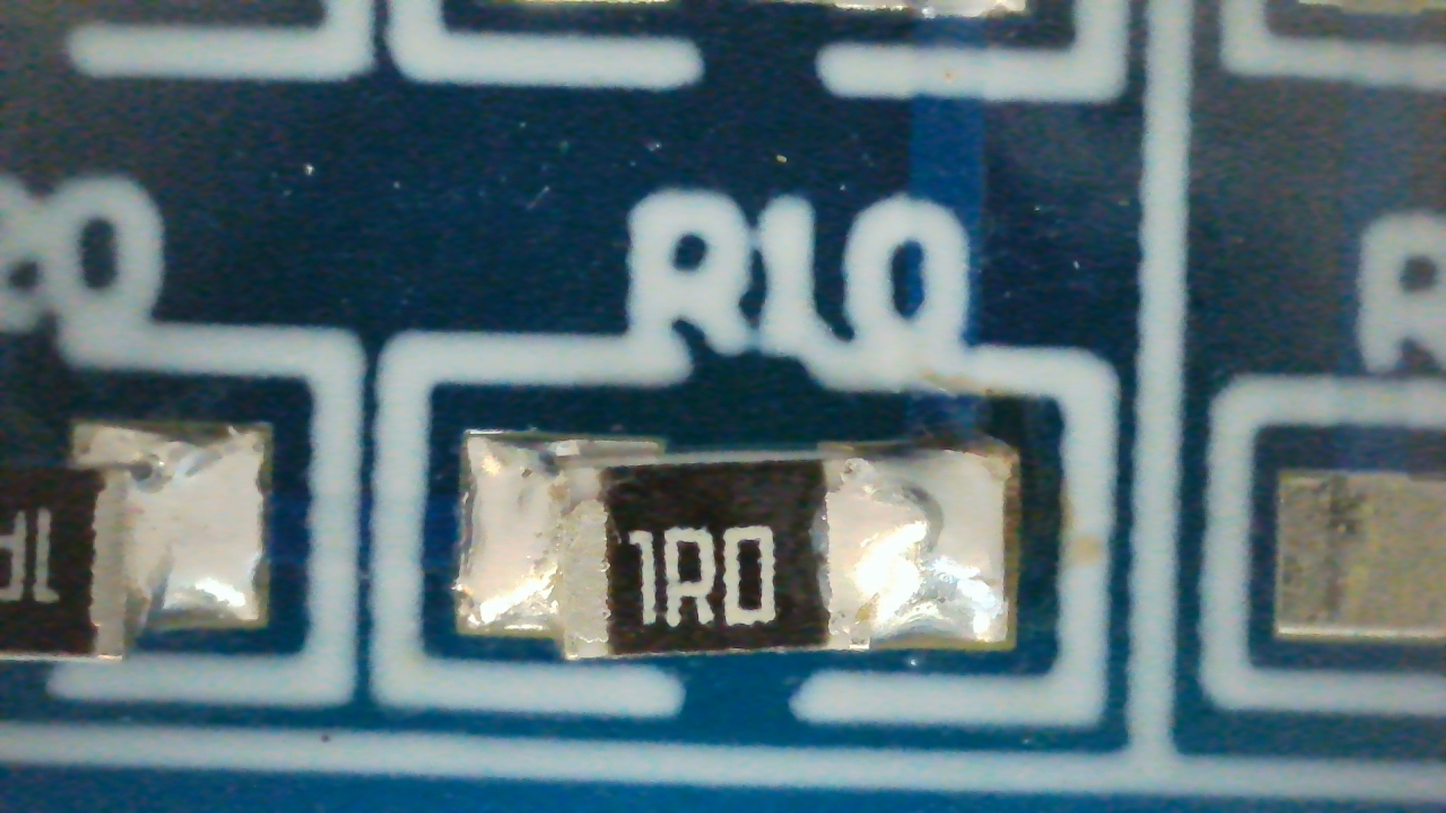NG: (455, 430, 1005, 659)
